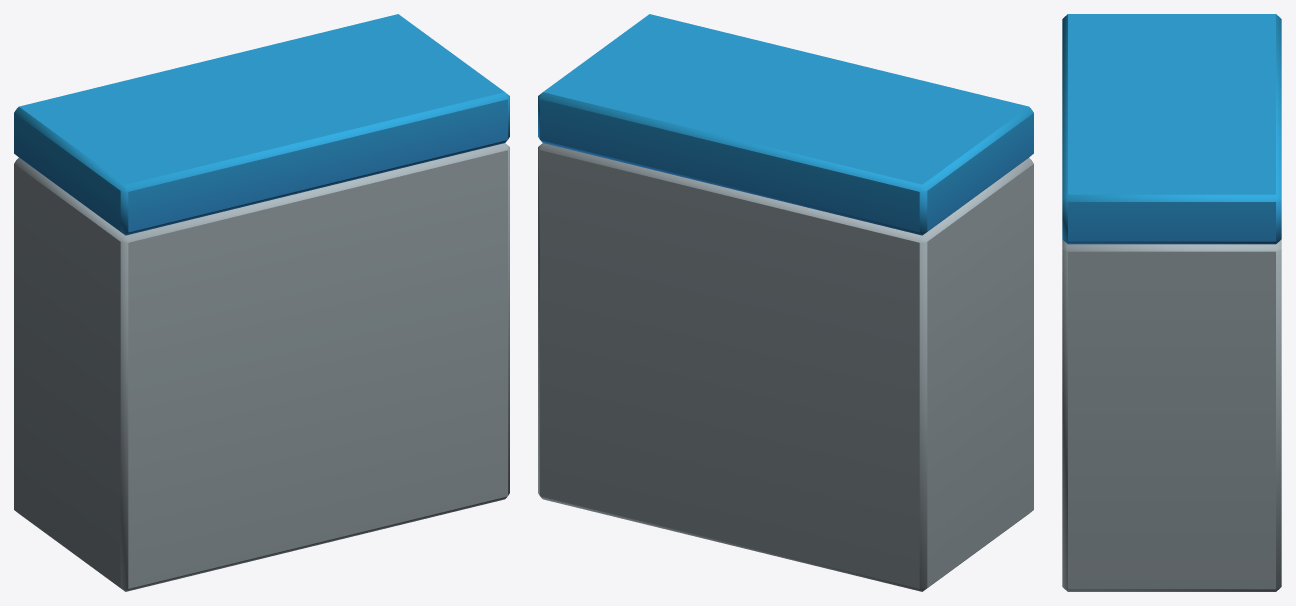
File: platform_4x2x4_blue.obj
3 renders of one model, left to right at view 1: azimuth 30°, elevation 25°; view 2: azimuth 150°, elevation 25°; view 3: azimuth 270°, elevation 25°, orthographic. The views are drawn at different scales.
Visible parts, largest first — view 1: platform_4x2x4_blue; view 2: platform_4x2x4_blue; view 3: platform_4x2x4_blue.
Boxes of the visible parts, <box> form: platform_4x2x4_blue: <box>14,14,509,591</box>; platform_4x2x4_blue: <box>538,14,1033,591</box>; platform_4x2x4_blue: <box>1062,14,1281,591</box>.
Bounding box in the file's own units: 4 × 4 × 2.
